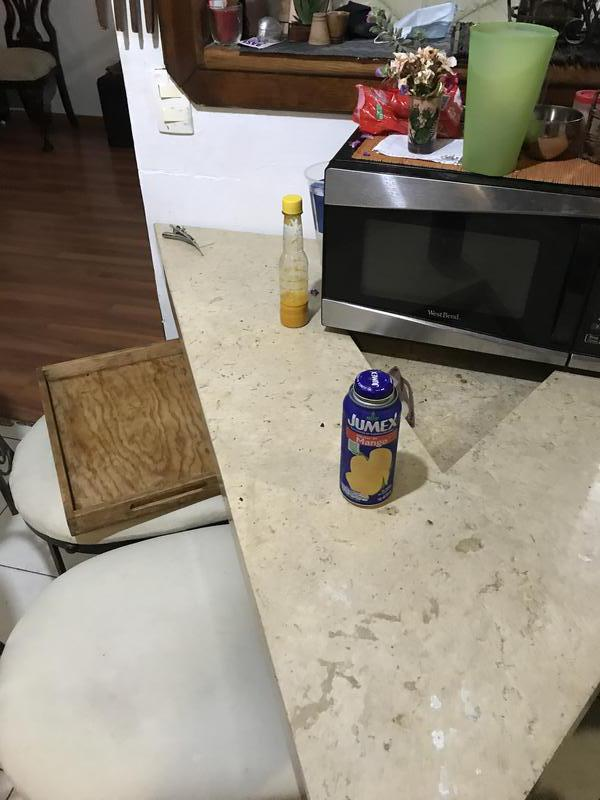jugo_jumex: (341, 370, 401, 508)
